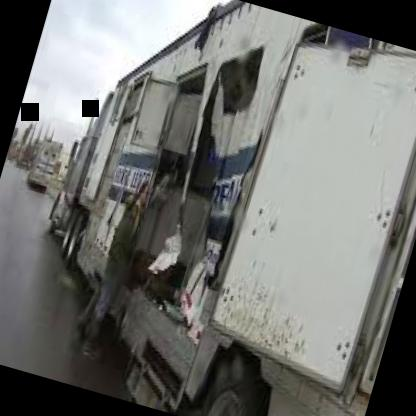accident: (39, 70, 274, 386)
